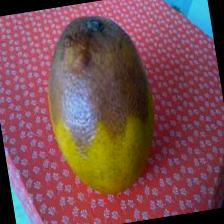Orange Rotten: (27, 0, 180, 223)
